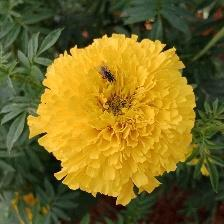marigold: (27, 33, 199, 206)
